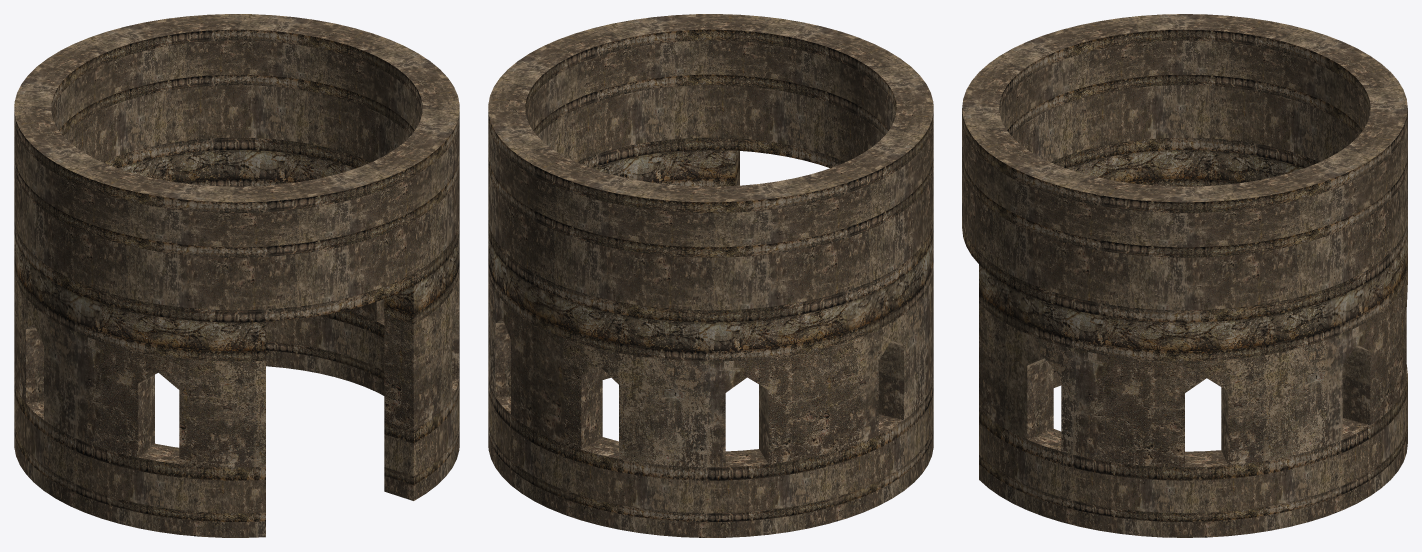
File: materials_5_wall_cylinder_16.fbx
3 views of the same model, side by side, from view 1: azimuth 30°, elevation 25°; view 2: azimuth 150°, elevation 25°; view 3: azimuth 270°, elevation 25° (orthographic).
Parts seen in each view (by area): view 1: materials_5_wall_cylinder_16; view 2: materials_5_wall_cylinder_16; view 3: materials_5_wall_cylinder_16.
Boxes of the visible parts, x1,y1,x2,y2 form: materials_5_wall_cylinder_16: (14, 14, 459, 537); materials_5_wall_cylinder_16: (488, 14, 933, 537); materials_5_wall_cylinder_16: (962, 14, 1407, 537).
Bounding box in the file's own units: 288 × 240 × 288.
